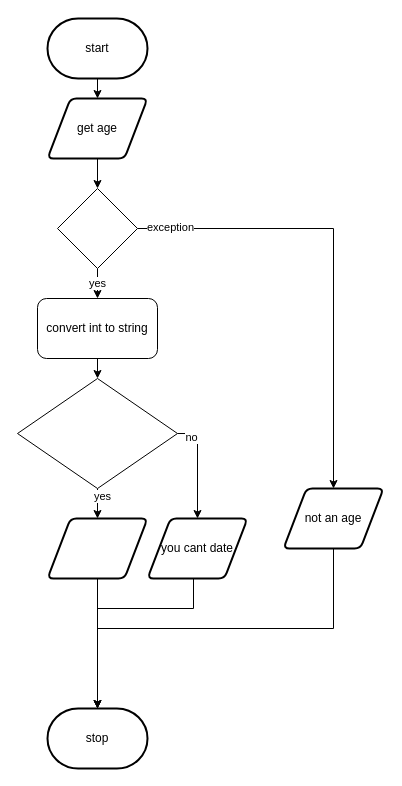
Image size: 402x786. Some labels were removed from this diagram. The centre of each missing label's shape, as x and y in pixels:
is age between 25 and 40: (97,433)
try: (97,228)
you can date: (97,548)
